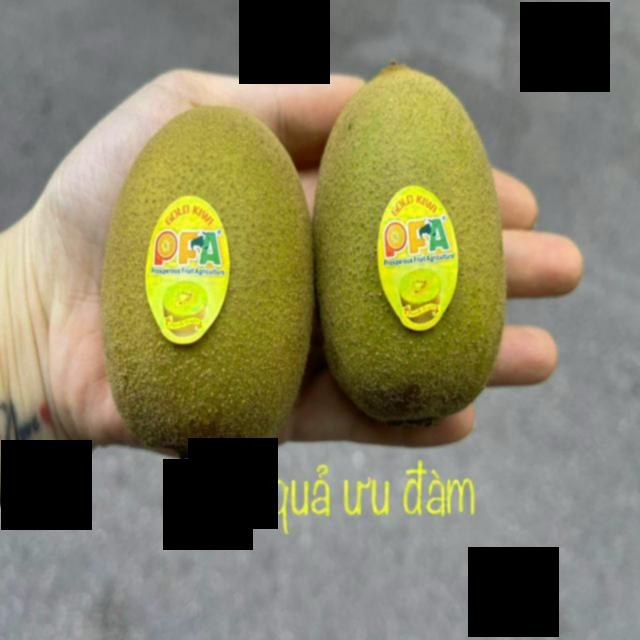kiwi: (101, 102, 317, 463), (315, 61, 511, 426)
